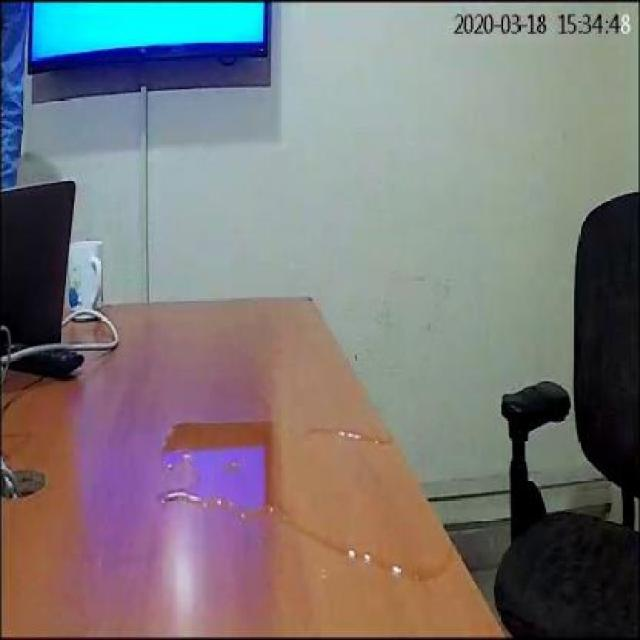spill: (162, 412, 452, 580)
